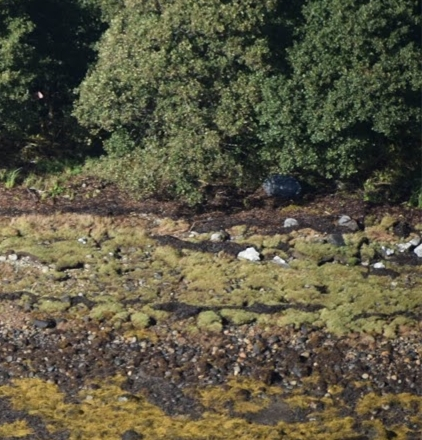white_in_green: (241, 147, 323, 222)
